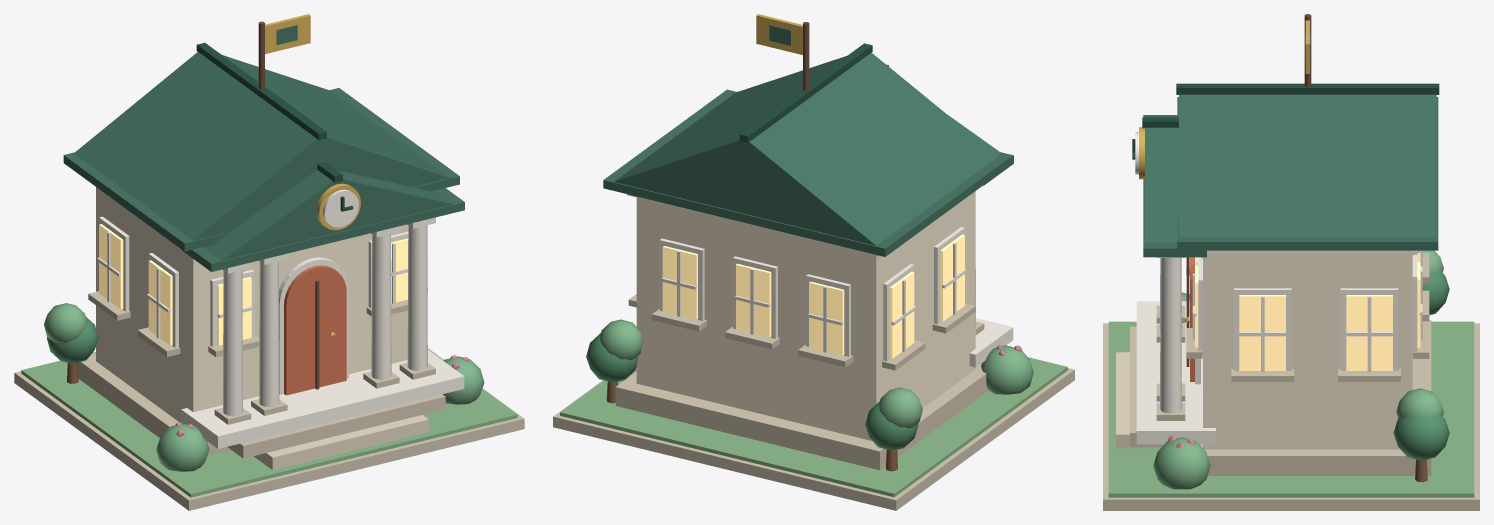
Rendered from prefeitura.glb.
3 renders of one model, left to right at view 1: azimuth 30°, elevation 25°; view 2: azimuth 150°, elevation 25°; view 3: azimuth 270°, elevation 25°, orthographic. The views are drawn at different scales.
Parts seen in each view (by area): view 1: prefeitura_green, prefeitura_white, prefeitura_cream, prefeitura_stone, prefeitura_lawn, prefeitura_coral, prefeitura_glassLight, prefeitura_leafLight, prefeitura_path, prefeitura_greenDark, prefeitura_gold, prefeitura_leaf (+1 smaller); view 2: prefeitura_green, prefeitura_cream, prefeitura_stone, prefeitura_lawn, prefeitura_glassLight, prefeitura_white, prefeitura_leafLight, prefeitura_leaf, prefeitura_greenDark, prefeitura_gold; view 3: prefeitura_green, prefeitura_cream, prefeitura_stone, prefeitura_lawn, prefeitura_white, prefeitura_glassLight, prefeitura_leafLight, prefeitura_greenDark, prefeitura_leaf, prefeitura_path, prefeitura_brown, prefeitura_gold.
Part boxes in pixels (bbox=[...]): prefeitura_green: bbox=[63, 25, 464, 271]; prefeitura_white: bbox=[97, 189, 464, 448]; prefeitura_cream: bbox=[96, 187, 427, 423]; prefeitura_stone: bbox=[14, 288, 524, 510]; prefeitura_lawn: bbox=[21, 349, 517, 497]; prefeitura_coral: bbox=[284, 265, 346, 395]; prefeitura_glassLight: bbox=[99, 224, 408, 345]; prefeitura_leafLight: bbox=[43, 303, 484, 471]; prefeitura_path: bbox=[253, 415, 428, 470]; prefeitura_greenDark: bbox=[196, 42, 353, 211]; prefeitura_gold: bbox=[265, 14, 360, 337]; prefeitura_leaf: bbox=[47, 317, 98, 363]; prefeitura_green: bbox=[603, 25, 1013, 256]; prefeitura_cream: bbox=[636, 191, 975, 440]; prefeitura_stone: bbox=[553, 294, 1074, 510]; prefeitura_lawn: bbox=[560, 357, 1067, 497]; prefeitura_glassLight: bbox=[662, 234, 964, 358]; prefeitura_white: bbox=[627, 194, 1013, 367]; prefeitura_leafLight: bbox=[599, 319, 1033, 428]; prefeitura_leaf: bbox=[586, 333, 918, 450]; prefeitura_greenDark: bbox=[739, 43, 888, 142]; prefeitura_gold: bbox=[756, 14, 802, 54]; prefeitura_green: bbox=[1143, 33, 1438, 257]; prefeitura_cream: bbox=[1203, 253, 1412, 449]; prefeitura_stone: bbox=[1103, 253, 1479, 510]; prefeitura_lawn: bbox=[1108, 321, 1474, 497]; prefeitura_white: bbox=[1135, 132, 1422, 444]; prefeitura_glassLight: bbox=[1195, 251, 1420, 370]; prefeitura_leafLight: bbox=[1153, 250, 1443, 489]; prefeitura_greenDark: bbox=[1132, 83, 1439, 159]; prefeitura_leaf: bbox=[1393, 271, 1449, 460]; prefeitura_path: bbox=[1116, 352, 1161, 448]; prefeitura_brown: bbox=[1186, 14, 1311, 366]; prefeitura_gold: bbox=[1139, 20, 1309, 323].
Size of the model in its own units: 3.05 by 3.28 by 2.75.
